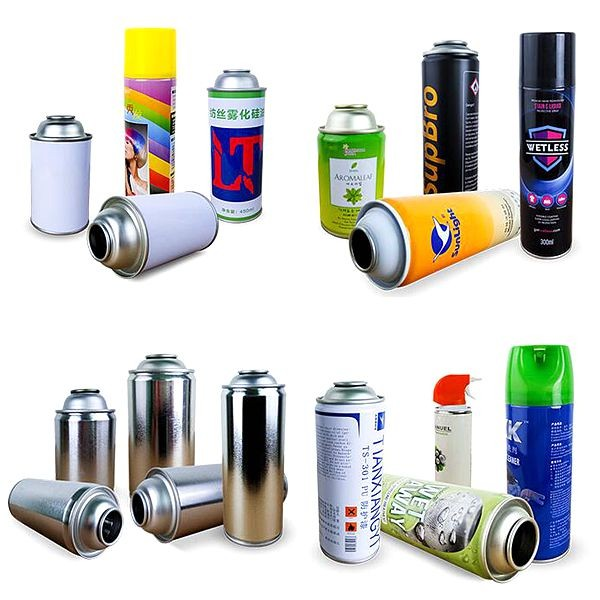Aerosol_cans: (380, 472, 540, 585), (506, 343, 573, 563), (518, 29, 579, 261), (314, 378, 388, 567), (83, 187, 224, 280), (223, 368, 286, 551), (203, 64, 269, 227), (4, 475, 126, 563), (313, 103, 388, 241), (417, 38, 484, 192), (125, 350, 197, 491), (121, 23, 180, 195), (25, 113, 94, 235)
